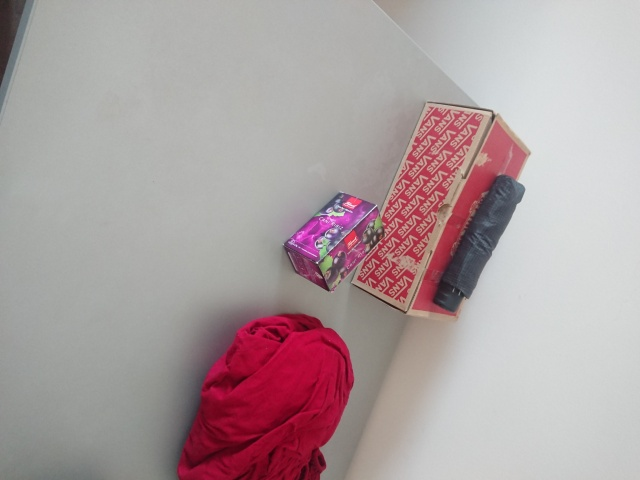Franck Black Currant Tea 60g: (280, 189, 387, 294)
